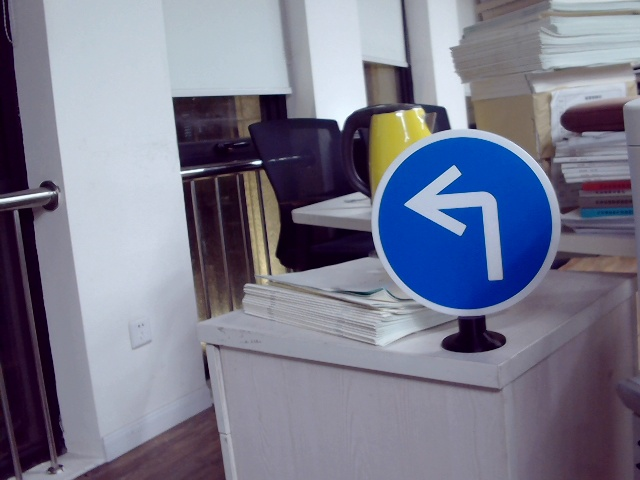turn_left: (401, 164, 515, 281)
